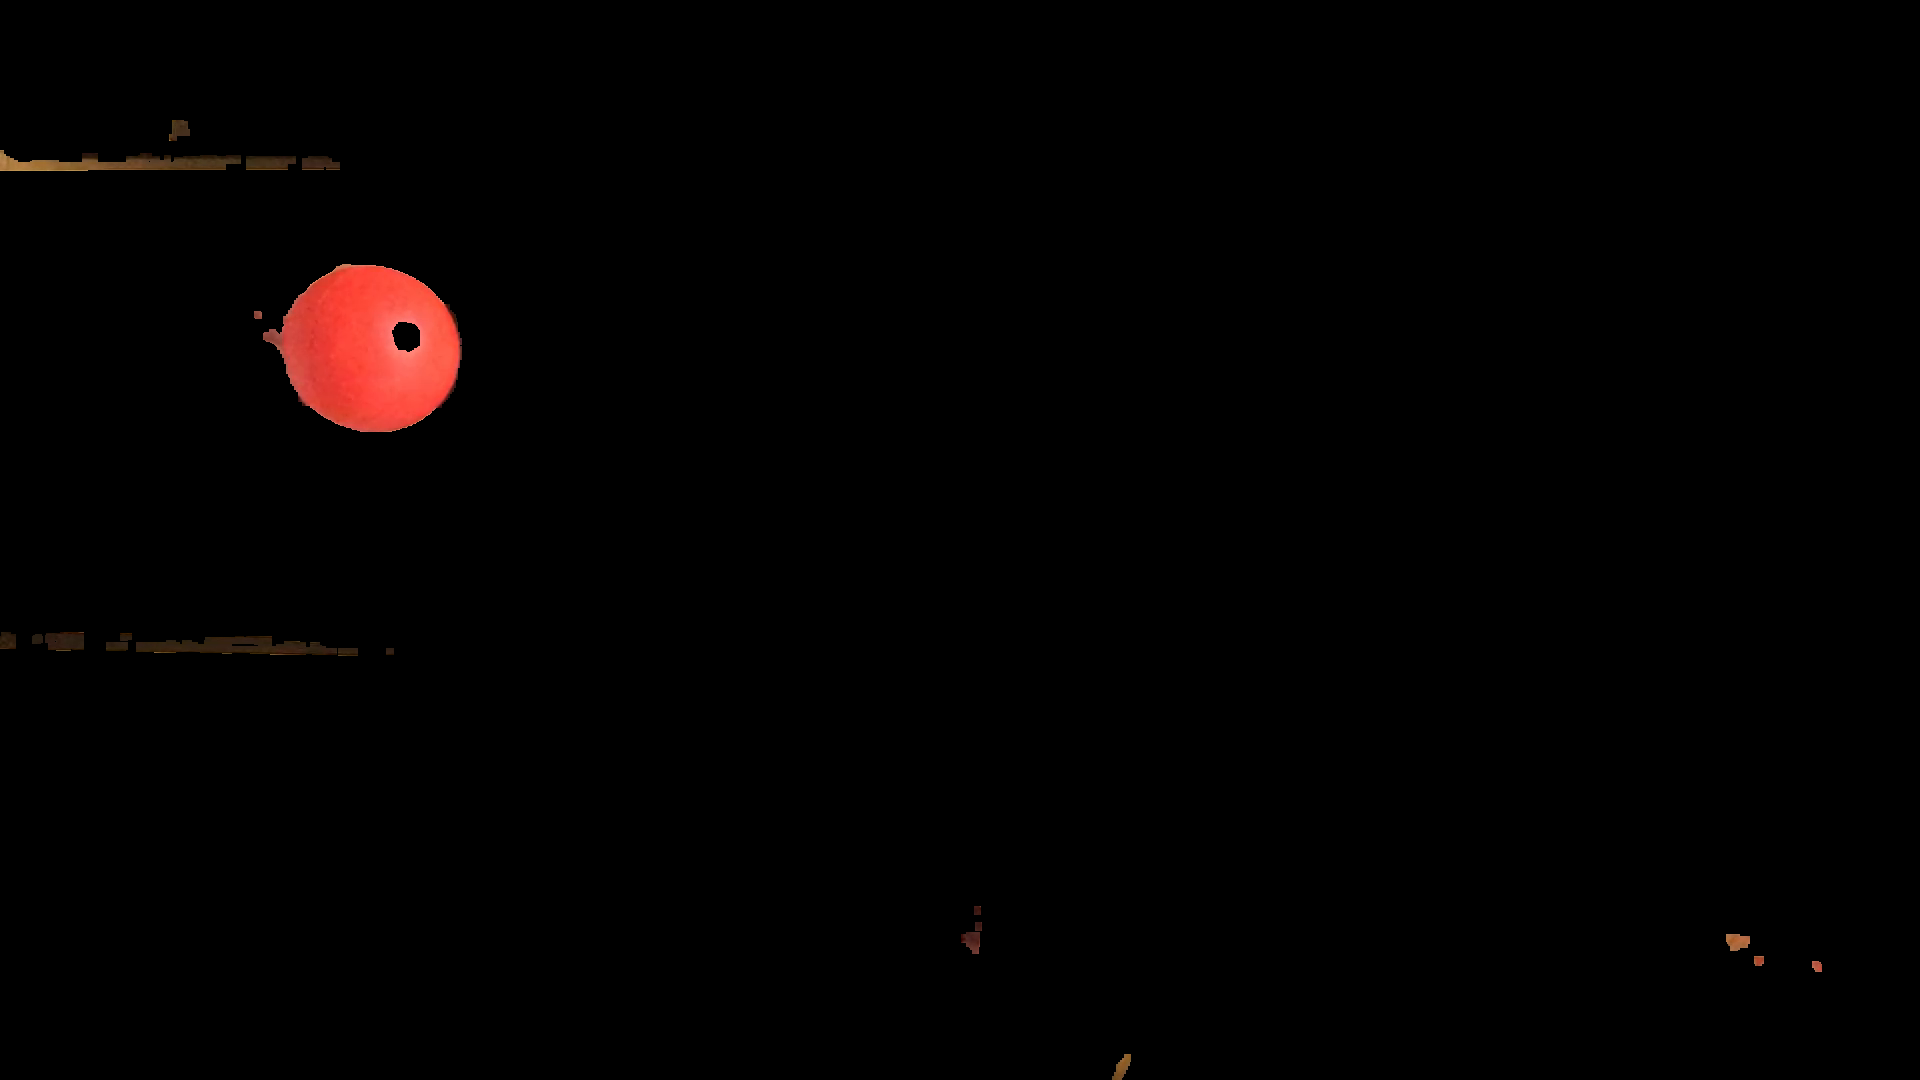Ball: (284, 266, 459, 430)
